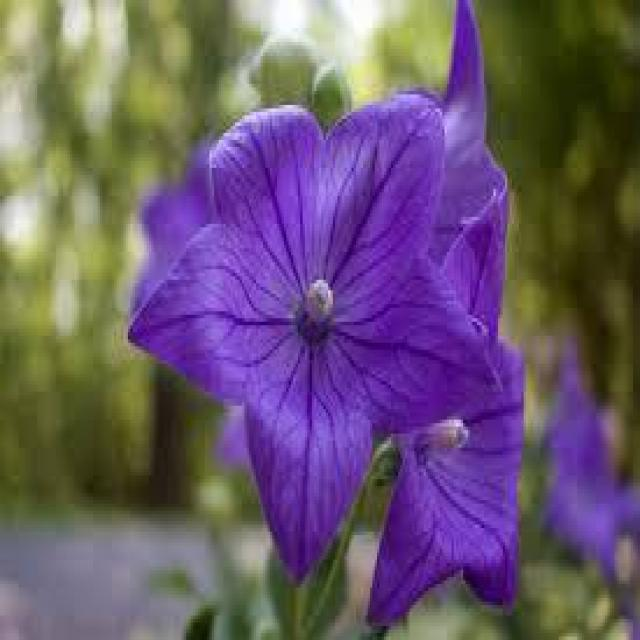organic waste: (123, 70, 496, 563), (377, 5, 526, 621)
